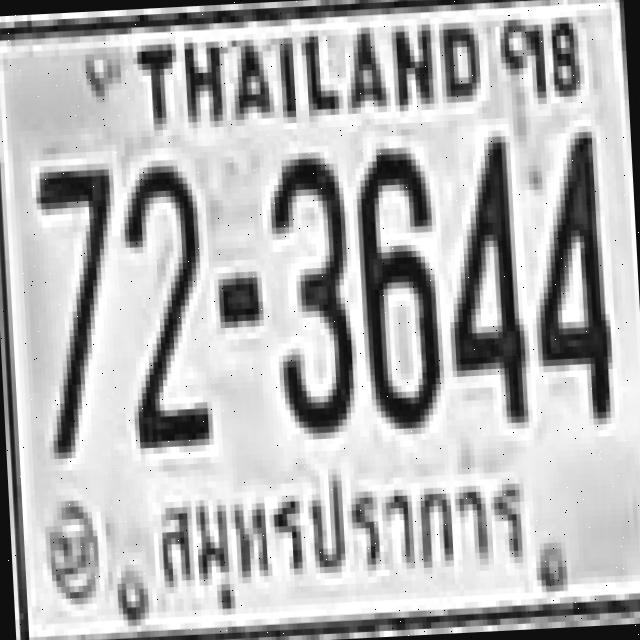2: (120, 158, 208, 442)
3: (264, 151, 356, 435)
4: (527, 126, 611, 422), (440, 130, 524, 420)
6: (350, 140, 438, 424)
7: (35, 163, 123, 447), (34, 163, 119, 362)
SamutPrakan: (138, 459, 534, 626)
